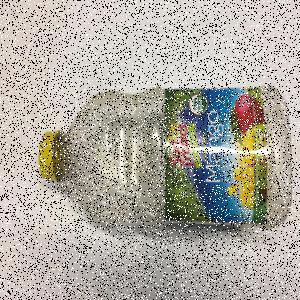Plastic-bottle: (38, 85, 294, 232)
